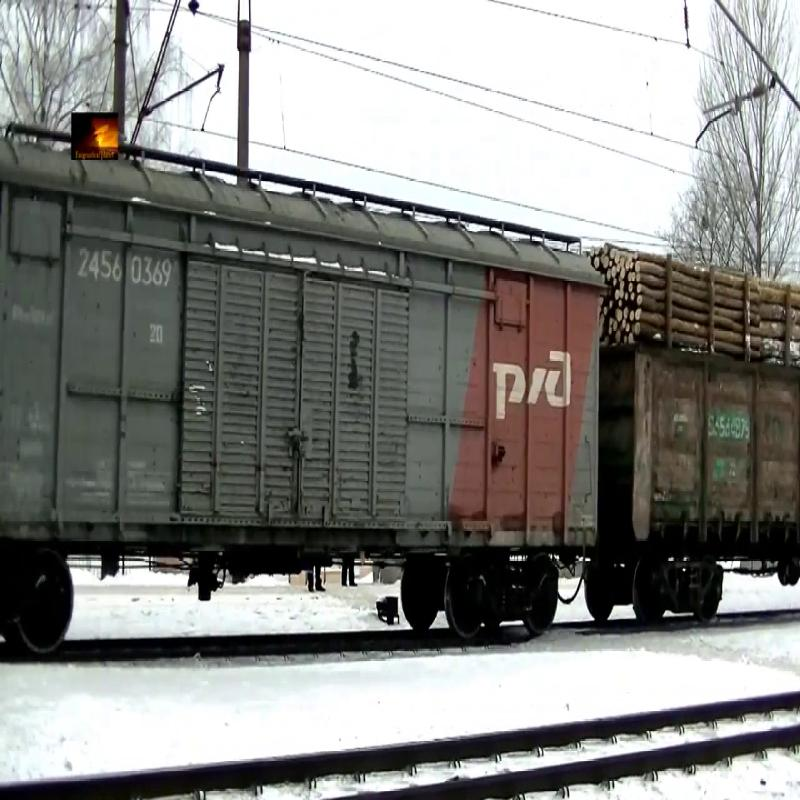train: (1, 143, 605, 619), (616, 243, 797, 621)
